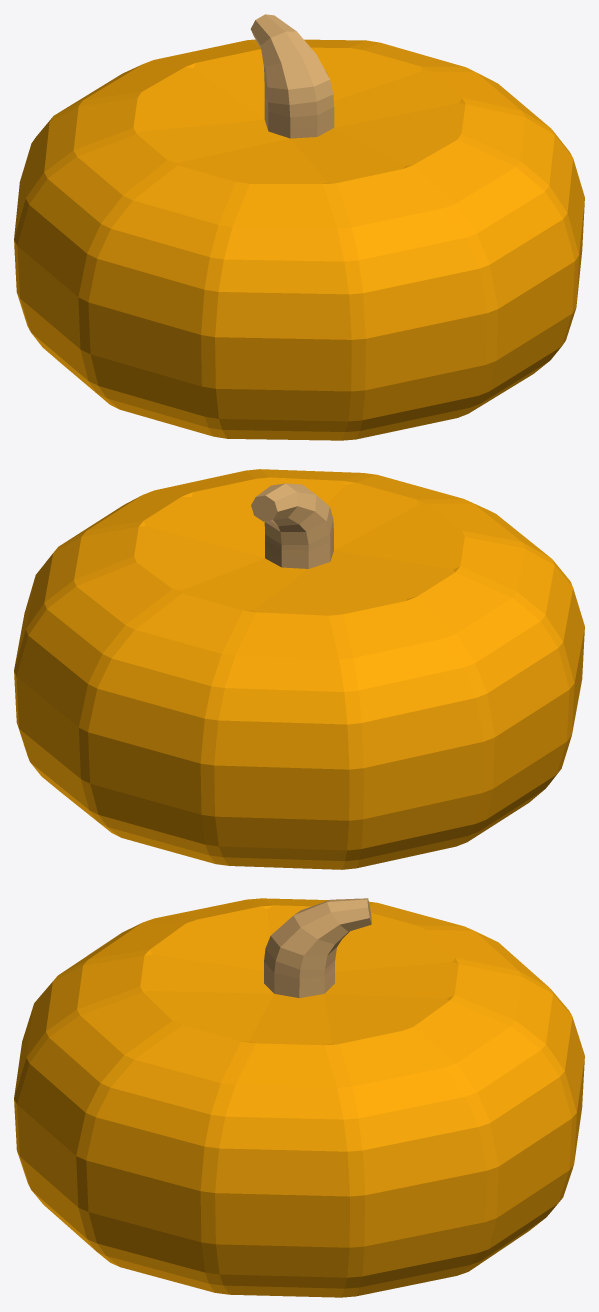
The model's file is pumpkin.glb.
The picture shows the model from 3 angles, top to bottom: view 1: azimuth 30°, elevation 25°; view 2: azimuth 150°, elevation 25°; view 3: azimuth 270°, elevation 25°; orthographic projection.
Visible parts, largest first — view 1: FullPumpkin; view 2: FullPumpkin; view 3: FullPumpkin.
Part boxes in pixels (x1,y1,x2,y2): FullPumpkin: [14, 14, 584, 440]; FullPumpkin: [14, 469, 584, 869]; FullPumpkin: [14, 898, 584, 1297].
Bounding box in the file's own units: 1.42 × 0.8483 × 1.44.
Materials: 1 (1 with a texture image).
